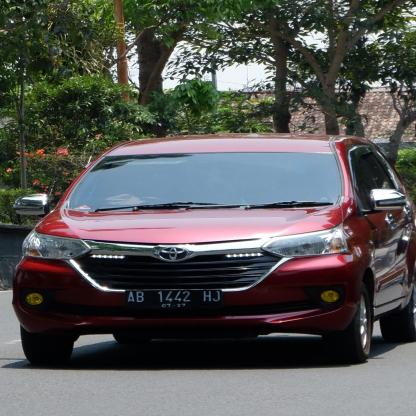Plat-Nomor: (123, 286, 225, 316)
